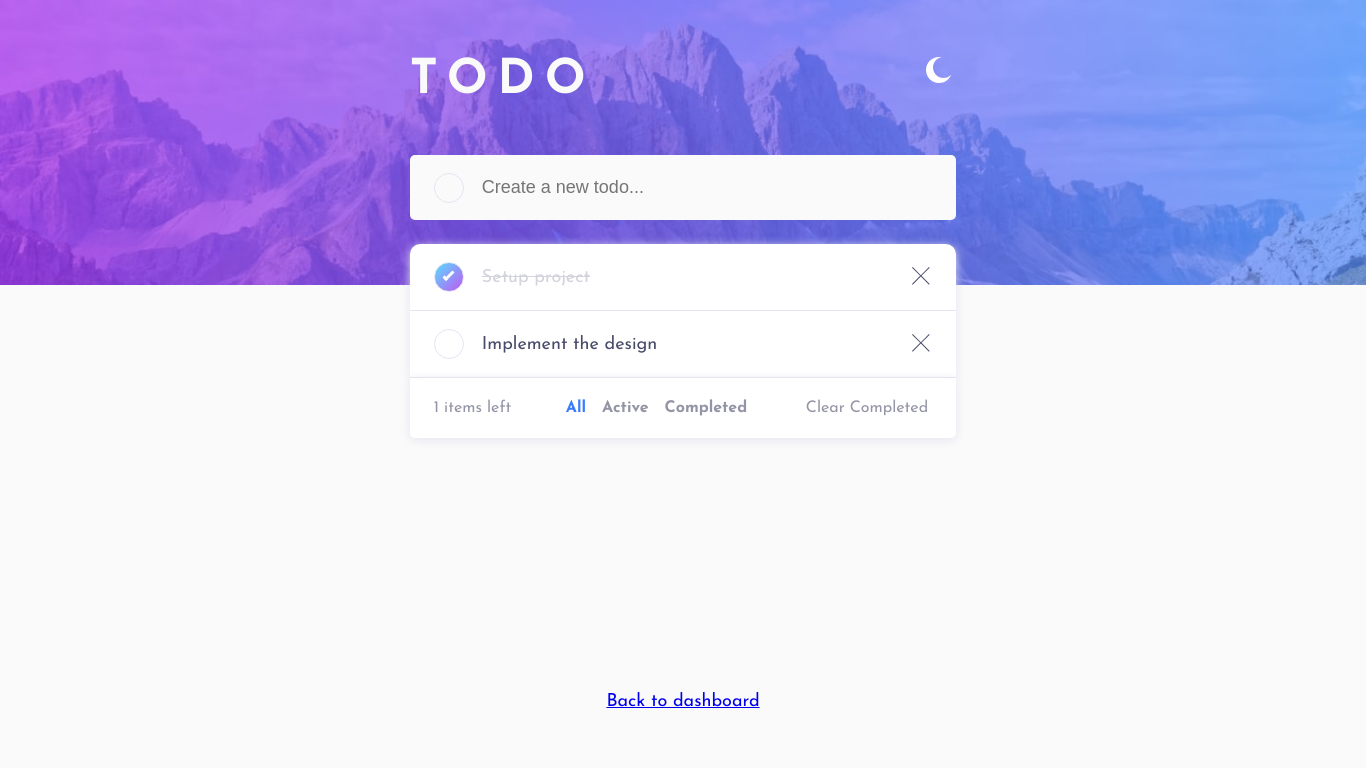
Test: Todo › should delete the todo when delete button is clicked
Expected: the number of elements with class "todo-list__item" is 2, [434,262,932,292]; [434,329,932,359]
Click the button with class "todo-list__item__delete" in the row of "Setup project" at (922, 277), box [912,267,932,287]
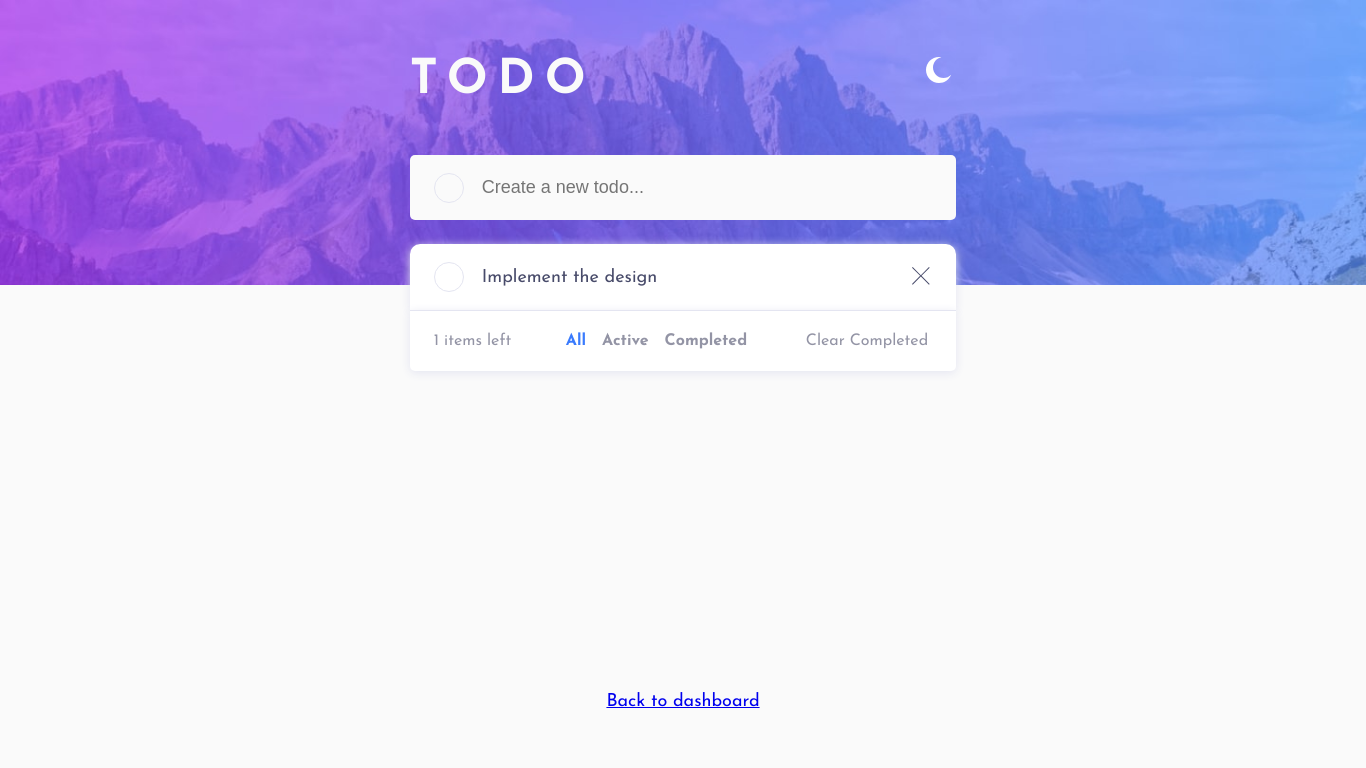
Expected: the number of elements with class "todo-list__item" is 1, [434,262,932,292]
